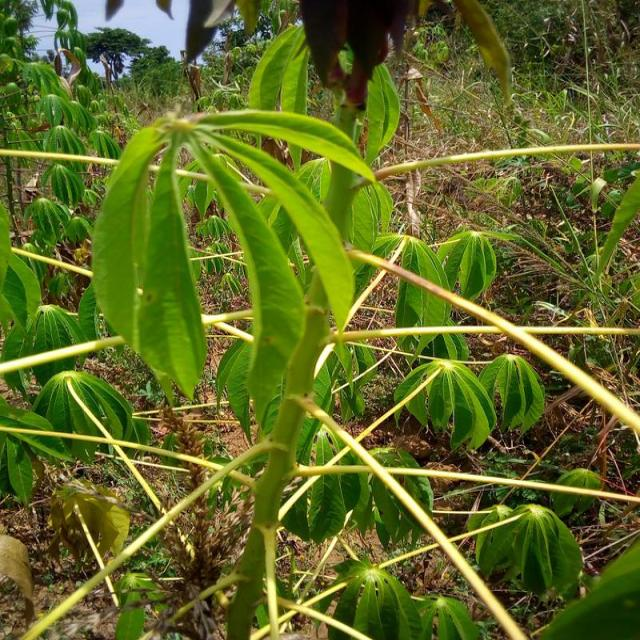cassava leaf: (470, 501, 583, 602)
